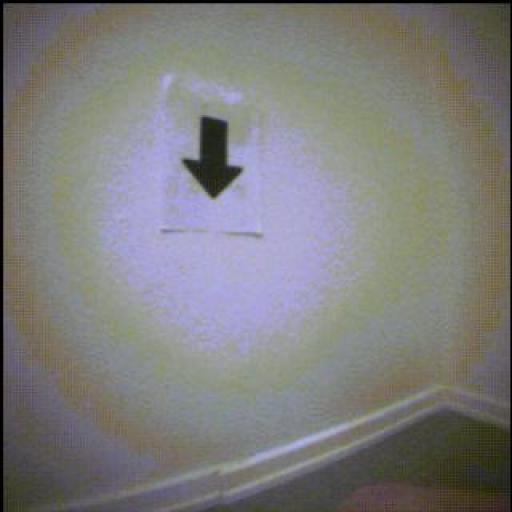arrow: (184, 118, 243, 199)
